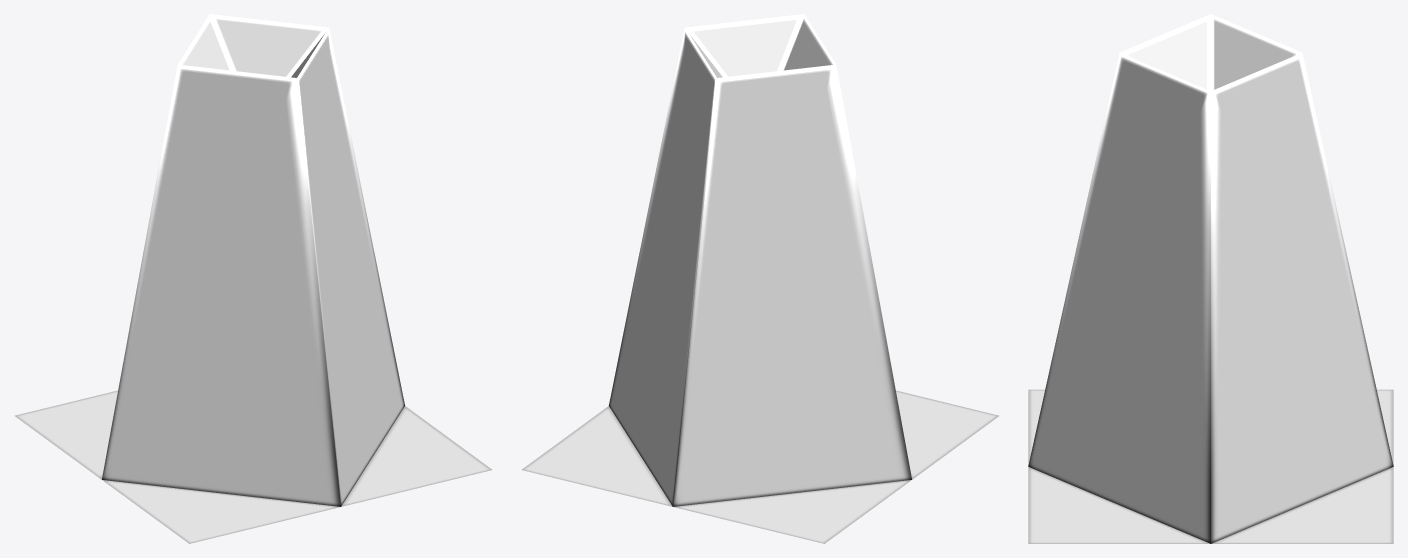
The model's file is obelisk_2-high_inverted.fbx.
3 views of the same model, side by side, from view 1: azimuth 30°, elevation 25°; view 2: azimuth 150°, elevation 25°; view 3: azimuth 270°, elevation 25° (orthographic). The views are drawn at different scales.
Parts seen in each view (by area): view 1: obelisk_2-high_inverted; view 2: obelisk_2-high_inverted; view 3: obelisk_2-high_inverted.
Boxes of the visible parts, x1,y1,x2,y2 form: obelisk_2-high_inverted: [14, 14, 492, 543]; obelisk_2-high_inverted: [521, 14, 999, 543]; obelisk_2-high_inverted: [1028, 14, 1393, 543].
Bounding box in the file's own units: 100 × 125 × 100.
